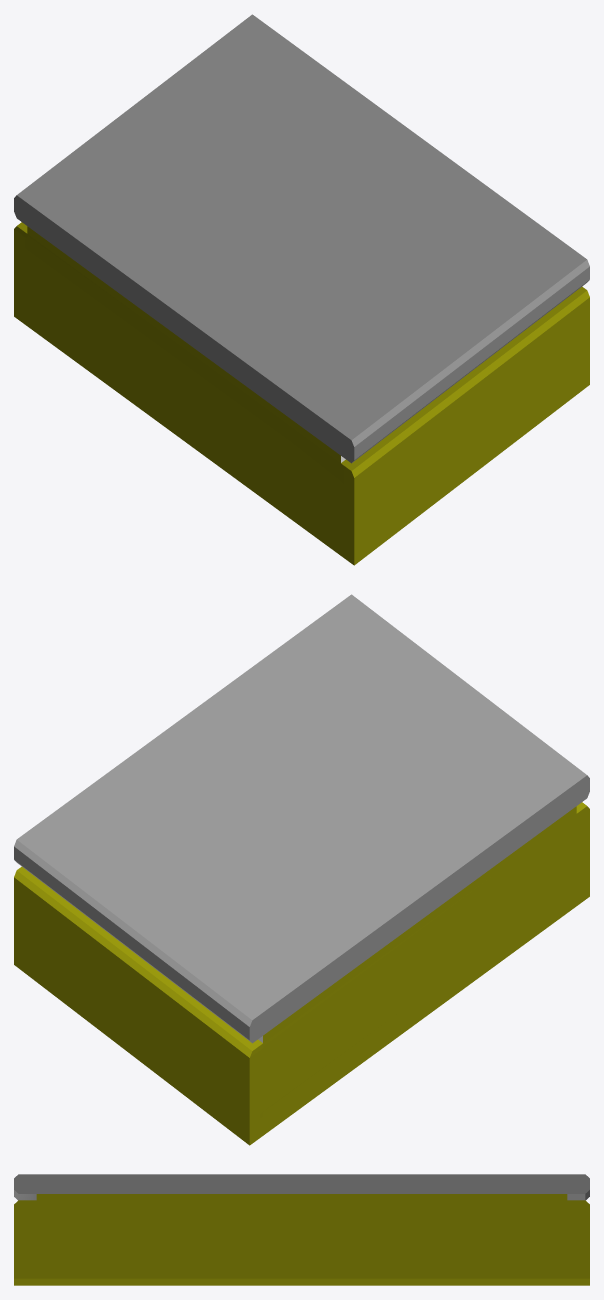
The model's file is Mesh_Levelblock_Diagonal.FBX.
3 renders of one model, top to bottom at view 1: azimuth 30°, elevation 25°; view 2: azimuth 150°, elevation 25°; view 3: azimuth 270°, elevation 25°, orthographic. The views are drawn at different scales.
Visible parts, largest first — view 1: Mesh_Diagonal; view 2: Mesh_Diagonal; view 3: Mesh_Diagonal.
Part boxes in pixels (x1,y1,x2,y2): Mesh_Diagonal: [14, 14, 589, 565]; Mesh_Diagonal: [14, 594, 589, 1145]; Mesh_Diagonal: [14, 1174, 589, 1285].
Size of the model in its own units: 4 by 4 by 10.
